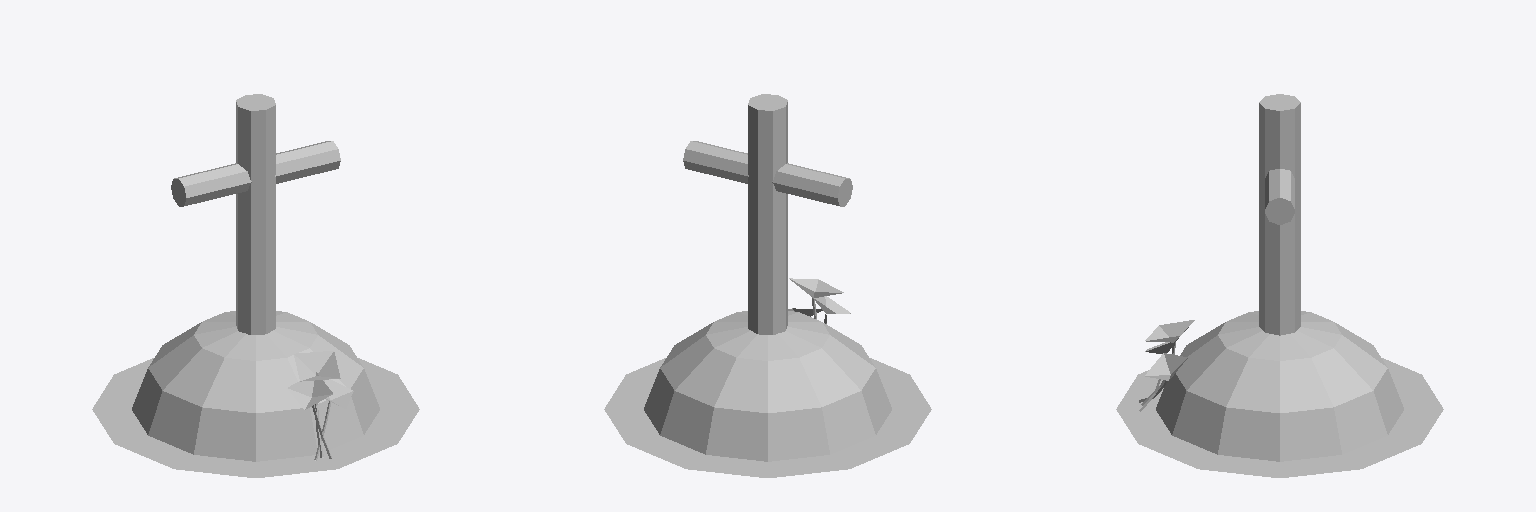
3 renders of one model, left to right at view 1: azimuth 30°, elevation 25°; view 2: azimuth 150°, elevation 25°; view 3: azimuth 270°, elevation 25°, orthographic.
Visible parts, largest first — view 1: rdmobj01, rdmobj00, rdmobj03; view 2: rdmobj01, rdmobj00, rdmobj03; view 3: rdmobj01, rdmobj00, rdmobj03.
Boxes of the visible parts, box(x1,y1,x2,y2) form: rdmobj01: box(132, 94, 379, 461); rdmobj00: box(92, 358, 419, 477); rdmobj03: box(287, 351, 353, 409); rdmobj01: box(644, 94, 891, 461); rdmobj00: box(604, 358, 931, 477); rdmobj03: box(788, 278, 850, 316); rdmobj01: box(1156, 94, 1403, 461); rdmobj00: box(1116, 358, 1443, 477); rdmobj03: box(1145, 320, 1194, 380).
Bounding box in the file's own units: 1.73 × 1.79 × 1.73.